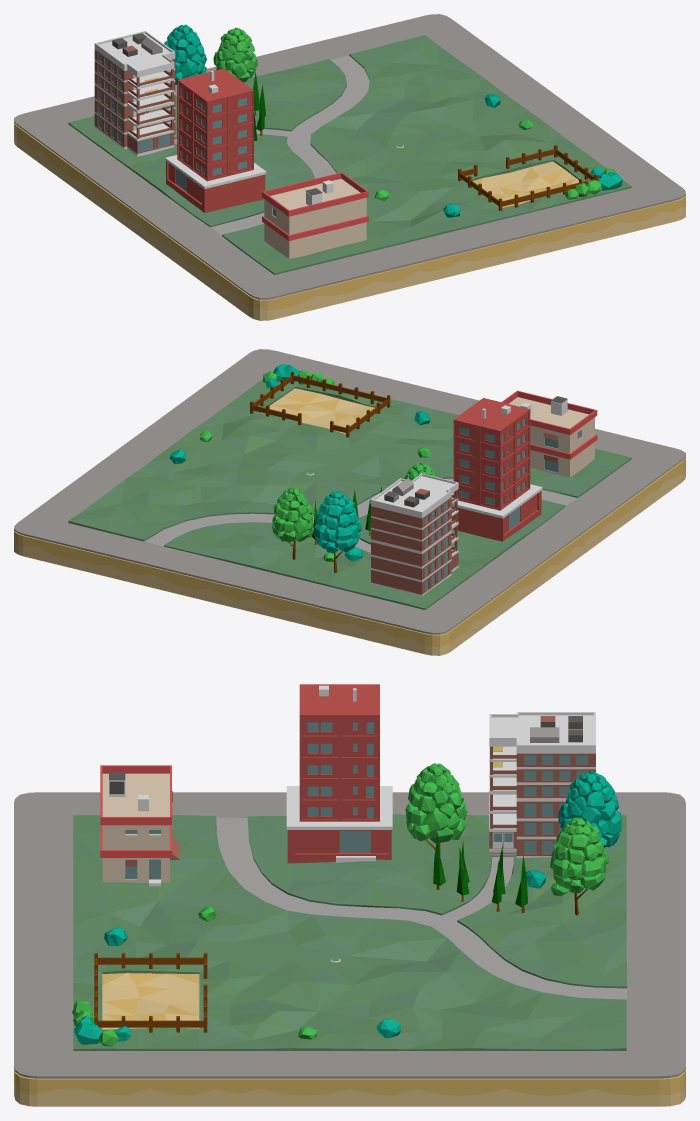
Rendered from Map.glb.
3 views of the same model, one above another, from view 1: azimuth 30°, elevation 25°; view 2: azimuth 150°, elevation 25°; view 3: azimuth 270°, elevation 25° (orthographic). The views are drawn at different scales.
Visible parts, largest first — view 1: Ground, Building2, Building1, Shop, Fence, Tree0, TreeDark, Pines_0; view 2: Ground, Building2, Building1, Shop, TreeDark, Fence, Tree0; view 3: Ground, Building2, Building1, Shop, Tree1, Tree0, TreeDark, Fence, Pines_0, Icosphere.003.
Boxes of the visible parts, box(x1,y1,x2,y2) form: Ground: box(14, 14, 685, 320); Building2: box(165, 68, 266, 212); Building1: box(94, 30, 177, 156); Shop: box(262, 172, 368, 258); Fence: box(458, 145, 598, 210); Tree0: box(213, 27, 257, 82); TreeDark: box(164, 24, 206, 84); Pines_0: box(253, 72, 265, 140); Ground: box(14, 349, 685, 655); Building2: box(451, 398, 542, 541); Building1: box(371, 473, 458, 595); Shop: box(501, 390, 597, 477); TreeDark: box(314, 491, 361, 573); Fence: box(250, 371, 390, 437); Tree0: box(272, 487, 313, 559); Ground: box(14, 792, 685, 1106); Building2: box(286, 684, 392, 863); Building1: box(489, 712, 595, 858); Shop: box(100, 765, 179, 886); Tree1: box(405, 763, 467, 855); Tree0: box(550, 817, 609, 915); TreeDark: box(558, 771, 621, 847); Fence: box(94, 953, 207, 1032); Pines_0: box(433, 832, 527, 913); Icosphere.003: box(74, 1015, 130, 1044).
Size of the model in its own units: 40 by 12.26 by 40.
